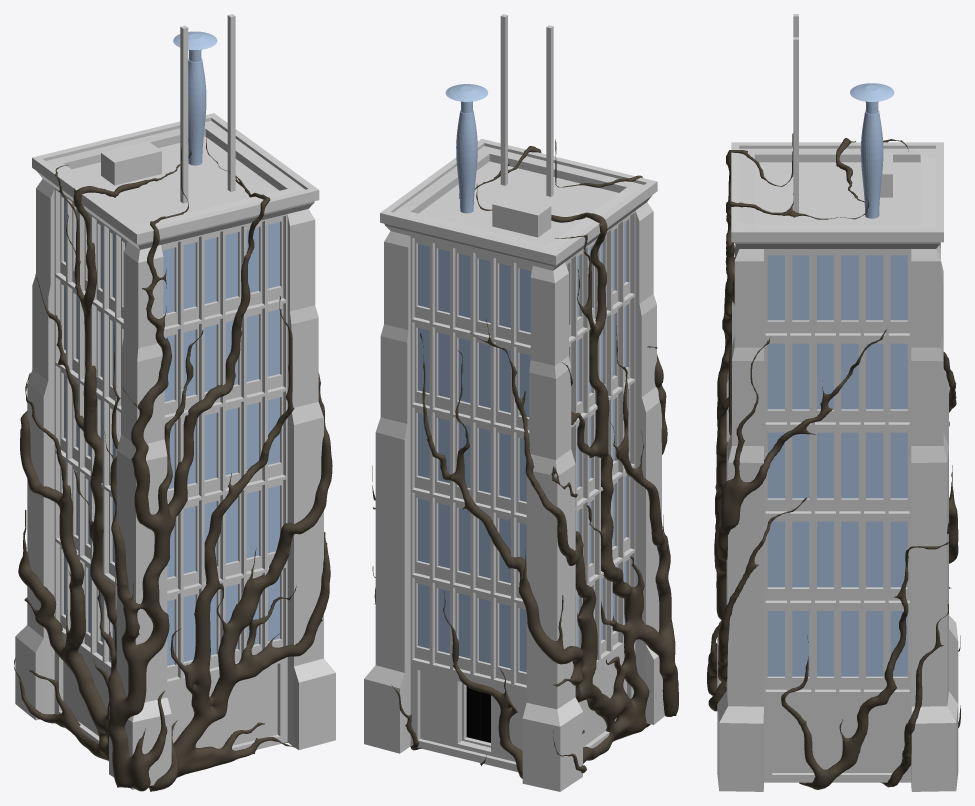
The model's file is foliagebuilding.fbx.
3 views of the same model, side by side, from view 1: azimuth 30°, elevation 25°; view 2: azimuth 150°, elevation 25°; view 3: azimuth 270°, elevation 25° (orthographic). The views are drawn at different scales.
Visible parts, largest first — view 1: building, foliage; view 2: building, foliage; view 3: building, foliage.
Boxes of the visible parts, <box> form: building: <box>15,14,335,789</box>; foliage: <box>14,137,332,791</box>; building: <box>364,14,664,791</box>; foliage: <box>372,139,678,778</box>; building: <box>717,14,958,791</box>; foliage: <box>707,133,960,789</box>.
Bounding box in the file's own units: 258 × 263 × 822.
